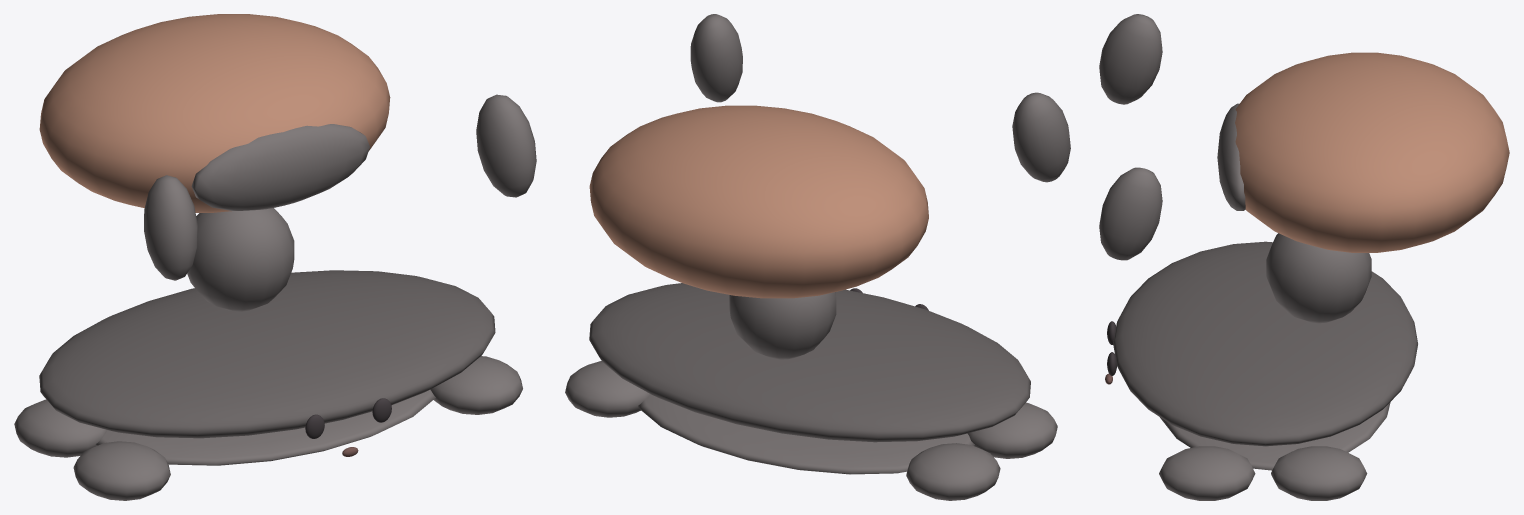
Rendered from crackle-bug.glb.
3 renders of one model, left to right at view 1: azimuth 30°, elevation 25°; view 2: azimuth 150°, elevation 25°; view 3: azimuth 270°, elevation 25°, orthographic. The views are drawn at different scales.
Parts seen in each view (by area): view 1: Body, ChargeShell, ShellRim, ShellMount, Underbody, Antenna_R, Foot_FL, Antenna_L, Foot_FR, Foot_BL; view 2: ChargeShell, Body, Underbody, ShellMount, Foot_BL, Antenna_L, Antenna_R, Foot_BR, Foot_FL; view 3: ChargeShell, Body, ShellMount, Antenna_R, Antenna_L, Foot_BR, Foot_FR, Underbody, ShellRim.
Part boxes in pixels (left/top/right/bottom): Body: left=39, top=270, right=495, bottom=438; ChargeShell: left=39, top=14, right=390, bottom=212; ShellRim: left=191, top=124, right=369, bottom=210; ShellMount: left=187, top=208, right=294, bottom=311; Underbody: left=96, top=389, right=435, bottom=465; Antenna_R: left=476, top=94, right=536, bottom=197; Foot_FL: left=73, top=441, right=170, bottom=500; Antenna_L: left=144, top=175, right=197, bottom=280; Foot_FR: left=430, top=356, right=522, bottom=414; Foot_BL: left=14, top=399, right=107, bottom=457; ChargeShell: left=589, top=105, right=928, bottom=298; Body: left=589, top=283, right=1030, bottom=442; Underbody: left=638, top=394, right=974, bottom=474; ShellMount: left=729, top=292, right=836, bottom=359; Foot_BL: left=906, top=443, right=1000, bottom=500; Antenna_L: left=1012, top=92, right=1070, bottom=182; Antenna_R: left=690, top=14, right=742, bottom=102; Foot_BR: left=565, top=361, right=650, bottom=417; Foot_FL: left=967, top=402, right=1057, bottom=458; ChargeShell: left=1235, top=52, right=1509, bottom=252; Body: left=1113, top=241, right=1417, bottom=446; ShellMount: left=1266, top=233, right=1371, bottom=323; Antenna_R: left=1099, top=167, right=1162, bottom=260; Antenna_L: left=1099, top=14, right=1162, bottom=104; Foot_BR: left=1271, top=446, right=1367, bottom=500; Foot_FR: left=1159, top=446, right=1255, bottom=500; Underbody: left=1160, top=402, right=1390, bottom=470; ShellRim: left=1217, top=103, right=1245, bottom=210.
Bounding box in the file's own units: 0.9315 × 0.713 × 0.8073.
